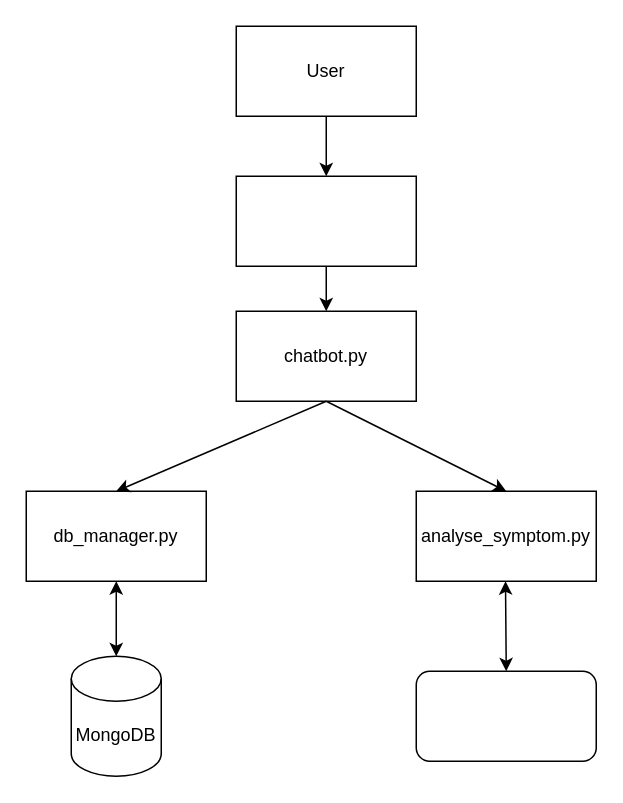
The diagram is 623 pixels wide and 803 high, and some of its shapes have lost their labels. The box of each missing label's shape, as (x1, y1, x2, y2) in pixels:
main.py: (235, 175, 416, 266)
OpenAI / LLM: (415, 670, 596, 761)
